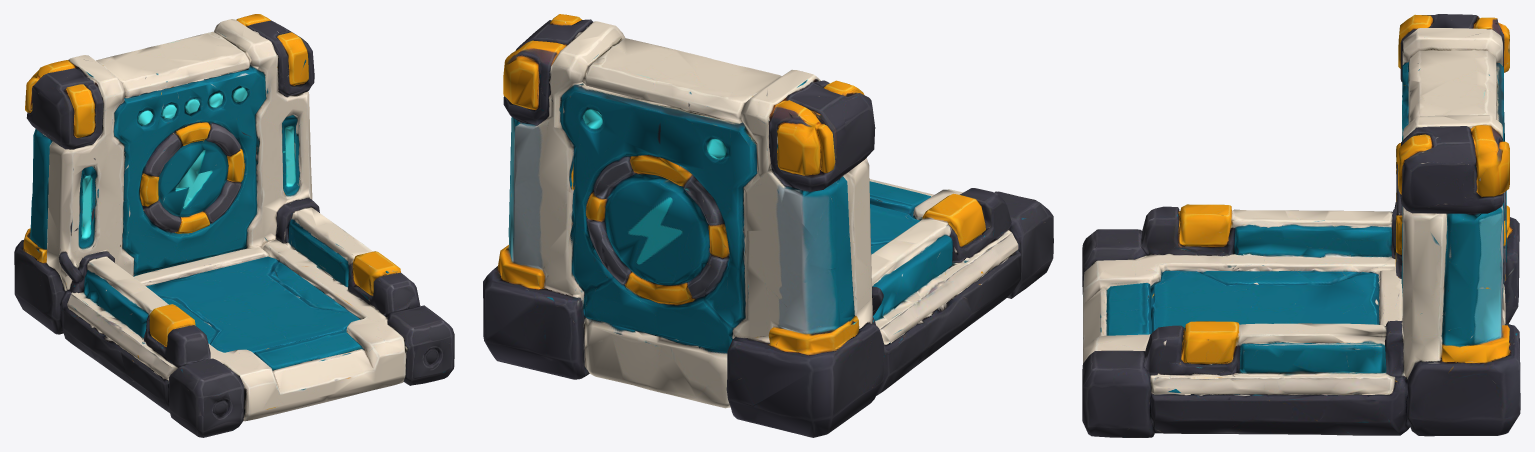
File: dock.glb
3 renders of one model, left to right at view 1: azimuth 30°, elevation 25°; view 2: azimuth 150°, elevation 25°; view 3: azimuth 270°, elevation 25°, orthographic. The views are drawn at different scales.
Visible parts, largest first — view 1: dock; view 2: dock; view 3: dock.
Part boxes in pixels (left/top/right/bottom): dock: left=14, top=14, right=454, bottom=437; dock: left=483, top=14, right=1053, bottom=437; dock: left=1082, top=14, right=1520, bottom=437.
Bounding box in the file's own units: 1.6 × 1.39 × 1.9.
1 material, 1 textured.
